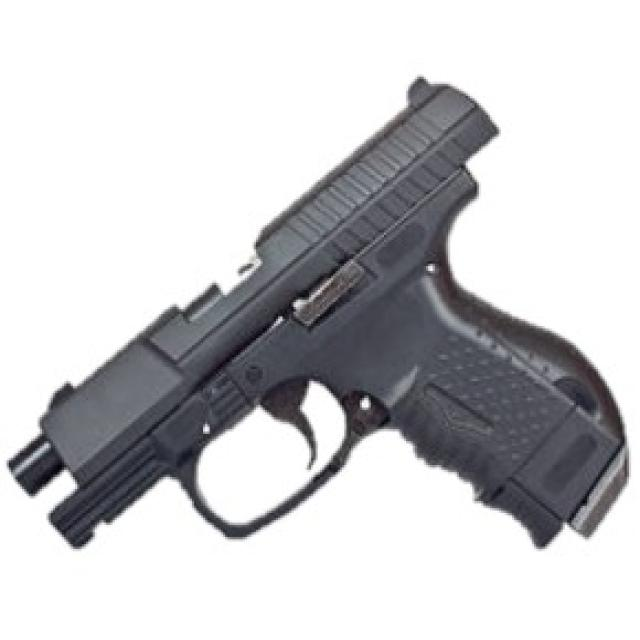pistol: (2, 69, 637, 569)
